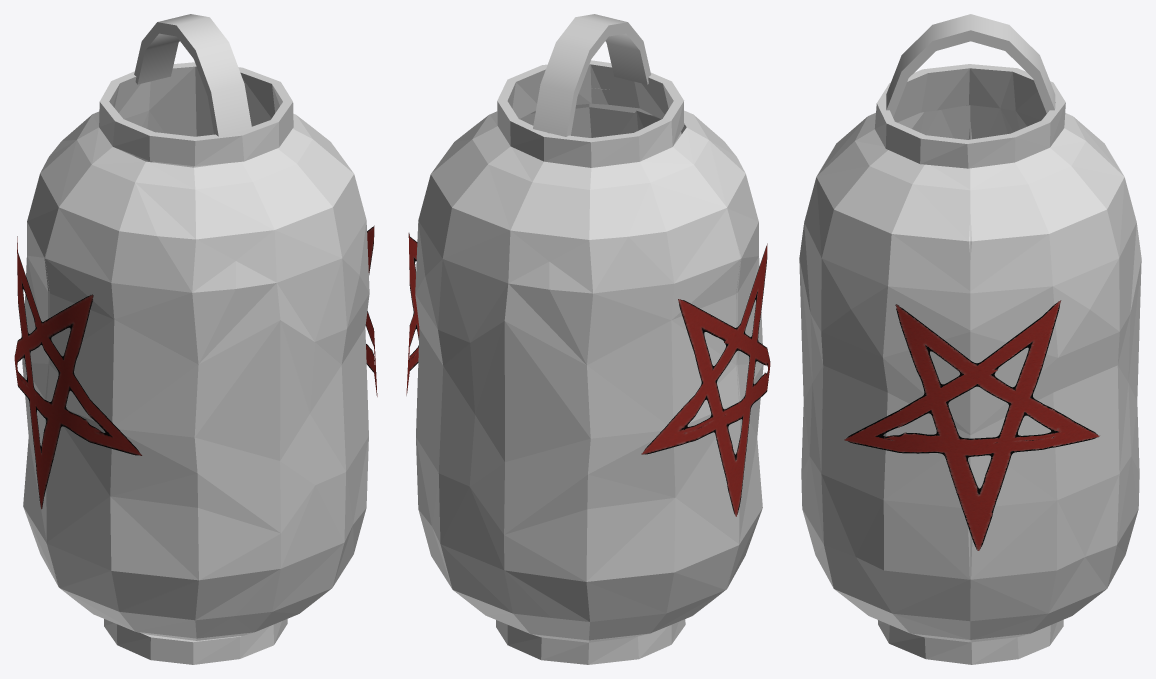
The model's file is LanternSymbol.FBX.
The picture shows the model from 3 angles, left to right: view 1: azimuth 30°, elevation 25°; view 2: azimuth 150°, elevation 25°; view 3: azimuth 270°, elevation 25°; orthographic projection.
Parts seen in each view (by area): view 1: LanternPaper, LanternMetal, Lantern_Symbol; view 2: LanternPaper, LanternMetal, Lantern_Symbol; view 3: LanternPaper, LanternMetal, Lantern_Symbol.
Boxes of the visible parts, x1,y1,x2,y2 form: LanternPaper: (22,110,369,640); LanternMetal: (99,14,293,664); Lantern_Symbol: (14,225,377,509); LanternPaper: (415,88,763,642); LanternMetal: (496,14,685,664); Lantern_Symbol: (406,233,770,516); LanternPaper: (799,105,1141,642); LanternMetal: (874,14,1065,664); Lantern_Symbol: (844,300,1099,550).
Size of the model in its own units: 36.32 by 68.93 by 35.52.
